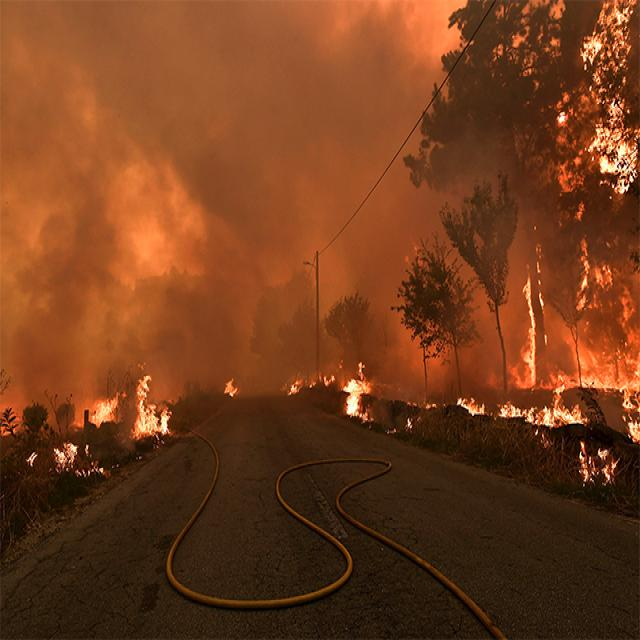Fire: (10, 347, 640, 513), (520, 0, 640, 359)
Smoke: (27, 0, 640, 467)
